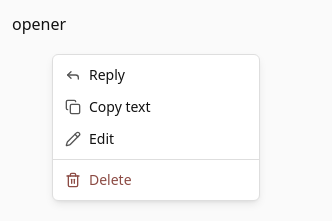
Test: the menu (EDT-10, DLT-09) › Edit hands the message to the composer
Step 1. Click the menu item "Edit" → (90, 138), box left=65, top=129, right=114, bottom=148
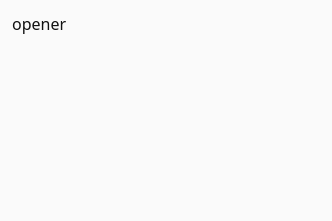
Now the menu is gone
